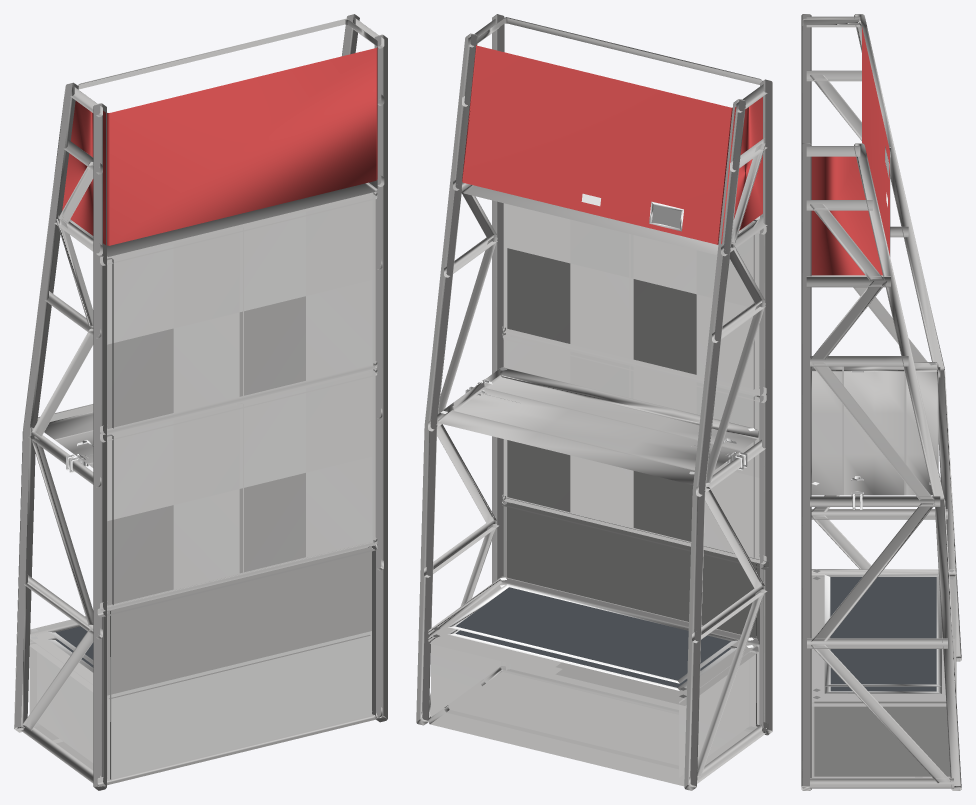
The model's file is rack_clothing_02x01x045_c.glb.
3 views of the same model, side by side, from view 1: azimuth 30°, elevation 25°; view 2: azimuth 150°, elevation 25°; view 3: azimuth 270°, elevation 25° (orthographic). The views are drawn at different scales.
Size of the model in its own units: 1.59 by 3.56 by 0.803.
